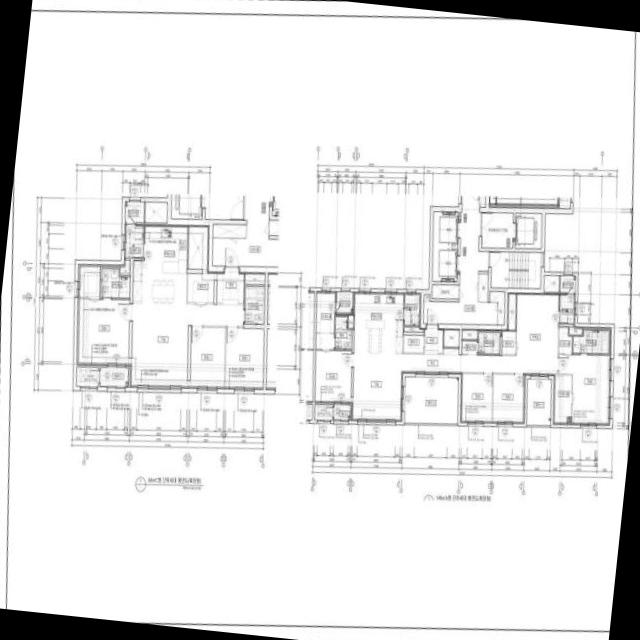background: (0, 0, 640, 640)
space_balconi: (404, 376, 458, 423), (526, 378, 550, 424), (99, 366, 128, 386), (333, 404, 350, 419)
space_bedroom: (76, 264, 129, 365), (558, 354, 610, 424), (314, 333, 350, 402), (225, 327, 263, 389), (190, 327, 224, 388), (492, 374, 524, 422), (460, 373, 491, 422)
space_dressroom: (552, 374, 571, 423), (316, 291, 335, 332), (558, 326, 571, 352)
space_elevator: (512, 212, 541, 248), (432, 211, 460, 246), (432, 245, 459, 281), (171, 193, 202, 218), (271, 195, 279, 214)
space_elevator_hall: (423, 195, 512, 324), (205, 194, 278, 266)
space_front: (216, 267, 243, 302), (423, 325, 442, 354)
space_kitchen: (132, 224, 188, 303), (353, 291, 403, 353)
space_living_room: (351, 293, 558, 420), (129, 302, 243, 387)
space_multipurpose_space: (123, 224, 143, 257), (404, 292, 420, 325), (559, 293, 574, 323)
space_other: (187, 225, 208, 268), (189, 271, 214, 302), (489, 291, 504, 324), (212, 223, 245, 237), (76, 366, 98, 386), (145, 201, 166, 221), (432, 284, 458, 298), (403, 335, 423, 352), (501, 329, 515, 353), (507, 292, 515, 329), (478, 273, 488, 301), (314, 404, 332, 419), (443, 328, 458, 346), (543, 275, 558, 291), (244, 272, 264, 284), (268, 219, 278, 235), (120, 259, 130, 274), (461, 329, 477, 338), (569, 326, 581, 334), (404, 326, 423, 331), (348, 313, 353, 327), (423, 294, 429, 300)
space_outdoor_room: (124, 201, 143, 222), (336, 291, 352, 312), (559, 275, 575, 291)
space_staircase: (490, 251, 540, 287)
space_toilet: (461, 331, 499, 354), (572, 329, 608, 353), (100, 268, 129, 297), (244, 285, 264, 323), (334, 316, 351, 348)
